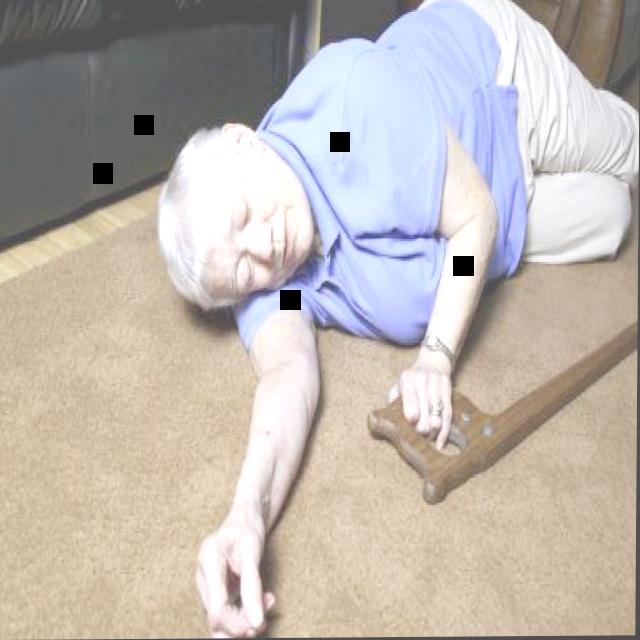Fall-Detected: (161, 0, 617, 624)
